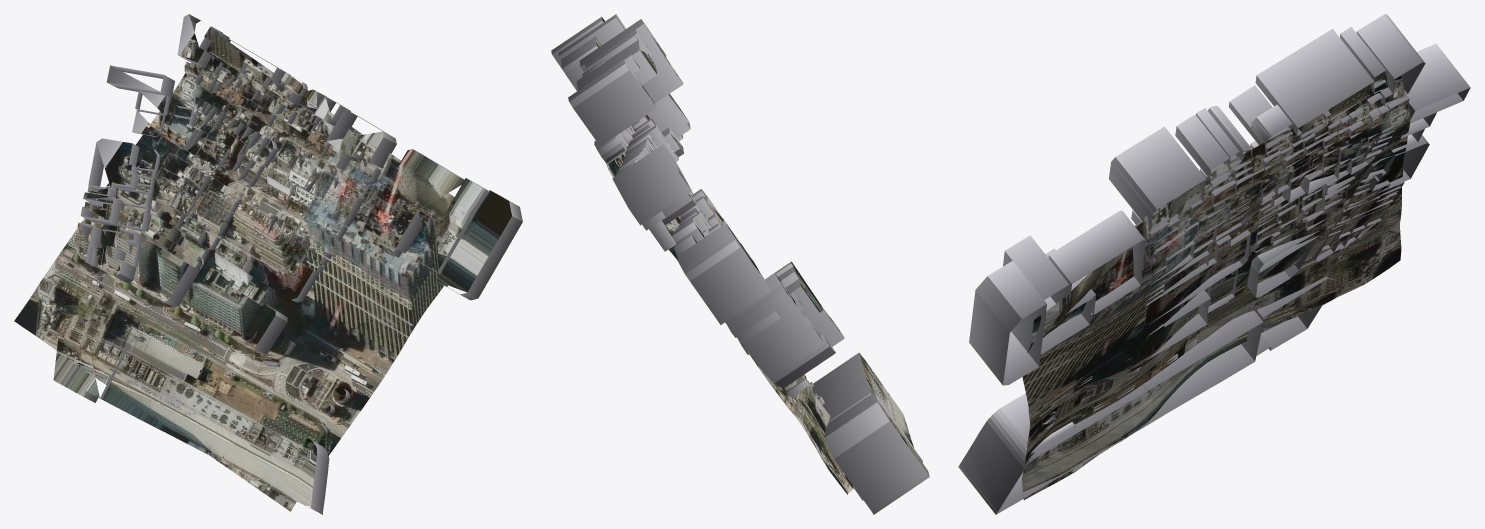
The picture shows the model from 3 angles, left to right: view 1: azimuth 30°, elevation 25°; view 2: azimuth 150°, elevation 25°; view 3: azimuth 270°, elevation 25°; orthographic projection. The views are drawn at different scales.
Size of the model in its own units: 303 by 303 by 276.
1 material, 1 textured.
